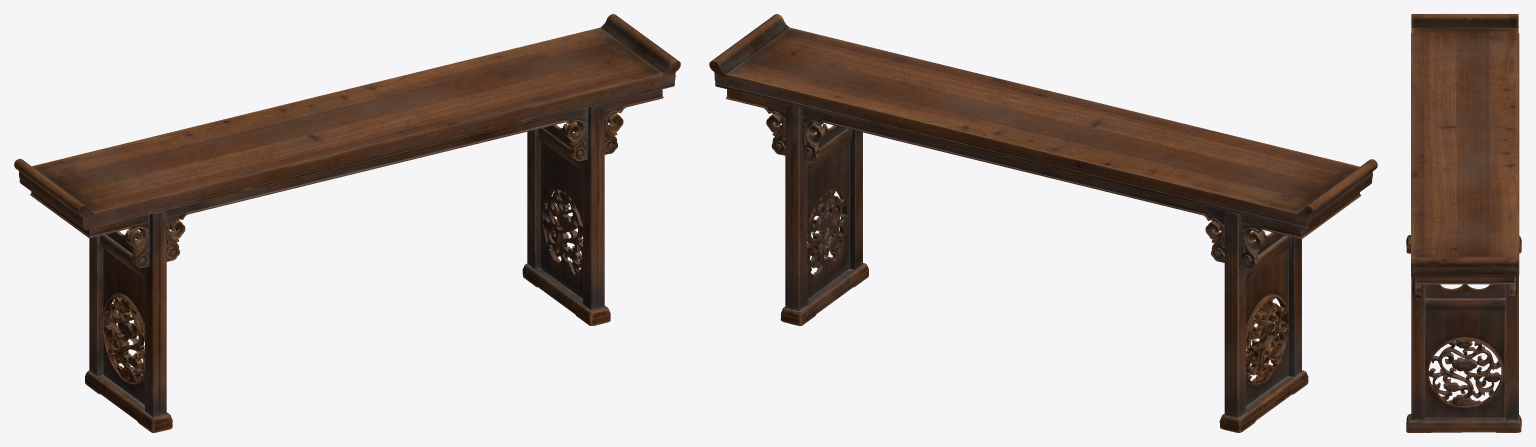
The model's file is chinese_console_table.glb.
3 renders of one model, left to right at view 1: azimuth 30°, elevation 25°; view 2: azimuth 150°, elevation 25°; view 3: azimuth 270°, elevation 25°, orthographic. The views are drawn at different scales.
Visible parts, largest first — view 1: chinese_console_table; view 2: chinese_console_table; view 3: chinese_console_table.
Part boxes in pixels (<box>): chinese_console_table: <box>14,14,680,432</box>; chinese_console_table: <box>709,14,1377,432</box>; chinese_console_table: <box>1406,14,1521,432</box>.
Bounding box in the file's own units: 1.72 × 0.6607 × 0.3388.
1 material, 1 textured.
